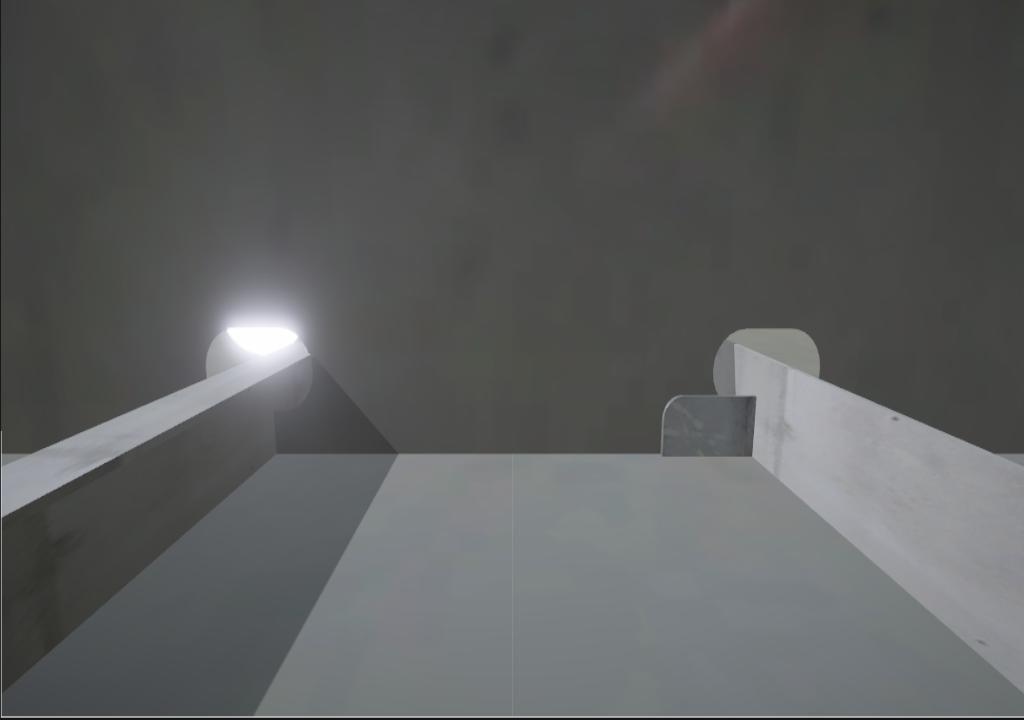fillet_yong_jeop_jang: (275, 448, 664, 460)
longi_yong_jeop_jang: (269, 401, 287, 457)
plate_CP05: (661, 394, 756, 457)
